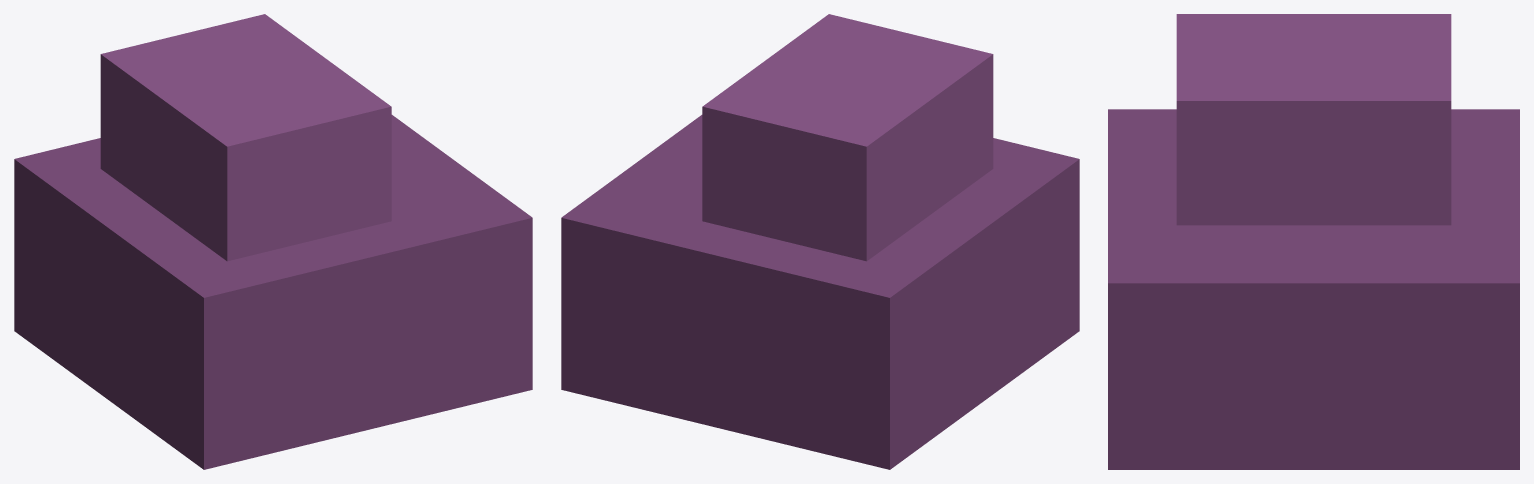
The model's file is libro_prohibido_01.glb.
3 renders of one model, left to right at view 1: azimuth 30°, elevation 25°; view 2: azimuth 150°, elevation 25°; view 3: azimuth 270°, elevation 25°, orthographic. The views are drawn at different scales.
Parts seen in each view (by area): view 1: libro_prohibido; view 2: libro_prohibido; view 3: libro_prohibido.
Part boxes in pixels (x1=…): libro_prohibido: x1=14, y1=14, x2=532, y2=469; libro_prohibido: x1=561, y1=14, x2=1079, y2=469; libro_prohibido: x1=1108, y1=14, x2=1519, y2=469.
Size of the model in its own units: 0.6 by 0.5 by 0.6.
